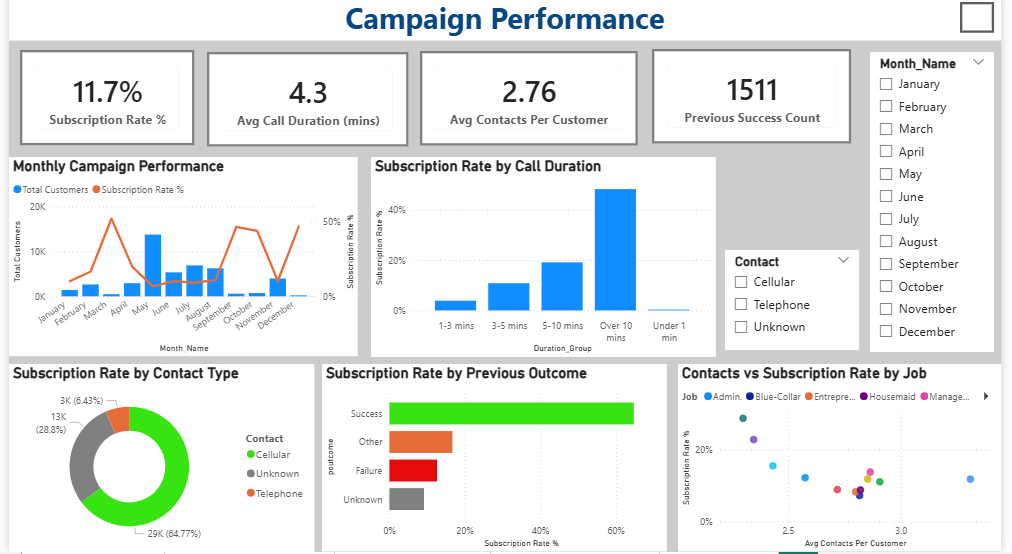

What the dashboard file says about the page in this screenshot:
{"tool":"powerbi","page":{"name":"Campaign Performance","canvas":[1280,720],"ordinal":3},"visuals":[{"type":"textbox","box":[0,0,1279.8,59.5],"z":0},{"type":"cardVisual","fields":{"Data":["_Measures.Subscription Rate %"]},"box":[14.2,72.3,225.4,123.3],"z":1000},{"type":"cardVisual","fields":{"Data":["_Measures.Avg Call Duration"]},"box":[256,74.3,260.1,122.5],"z":2000},{"type":"cardVisual","fields":{"Data":["_Measures.Avg Contacts Per Customer"]},"box":[529.9,72.9,280.8,122.5],"z":3000},{"type":"cardVisual","fields":{"Data":["_Measures.Previous Success Count"]},"box":[829.9,71.6,257.4,122.5],"z":4000},{"type":"lineClusteredColumnComboChart","title":"Monthly Campaign Performance","fields":{"Category":["Month_Table.Month_Name"],"Y":["_Measures.Total Customers"],"Y2":["_Measures.Subscription Rate %"]},"box":[0,210.3,450.3,256.8],"z":5000},{"type":"donutChart","title":"Subscription Rate by Contact Type","fields":{"Category":["Bank_Customers.Contact"],"Y":["_Measures.Total Customers"]},"box":[0,477.4,393.5,242.6],"z":6000},{"type":"clusteredColumnChart","title":"Subscription Rate by Call Duration","fields":{"Category":["Bank_Customers.Duration_Group"],"Y":["_Measures.Subscription Rate %"]},"box":[467.7,209.8,445,258],"z":7000},{"type":"clusteredBarChart","title":"Subscription Rate by Previous Outcome","fields":{"Category":["Bank_Customers.poutcome"],"Y":["_Measures.Subscription Rate %"]},"box":[403.9,477.6,445,242.4],"z":8000},{"type":"scatterChart","title":"Contacts vs Subscription Rate by Job","fields":{"Series":["Bank_Customers.Job"],"Y":["_Measures.Subscription Rate %"],"X":["_Measures.Avg Contacts Per Customer"]},"box":[863.1,477.6,416.7,242.4],"z":9000},{"type":"slicer","fields":{"Values":["Month_Table.Month_Name"]},"box":[1111,74.8,160,387.1],"z":10000},{"type":"slicer","fields":{"Values":["Bank_Customers.Contact"]},"box":[924.1,330.2,172.9,129],"z":11000},{"type":"actionButton","box":[1227.4,9.9,43.9,39.7],"z":11001}]}

Visuals, with their boxes in screenshot pixels (x1, y1, x2, y2), scaled from the page's 1280x720 canvas onto the 1012x554 screenshot:
textbox: bbox=(0, 0, 1011, 46)
cardVisual - _Measures.Subscription Rate %: bbox=(11, 56, 189, 151)
cardVisual - _Measures.Avg Call Duration: bbox=(202, 57, 408, 151)
cardVisual - _Measures.Avg Contacts Per Customer: bbox=(419, 56, 641, 150)
cardVisual - _Measures.Previous Success Count: bbox=(656, 55, 860, 149)
"Monthly Campaign Performance" lineClusteredColumnComboChart: bbox=(0, 162, 356, 359)
"Subscription Rate by Contact Type" donutChart: bbox=(0, 367, 311, 553)
"Subscription Rate by Call Duration" clusteredColumnChart: bbox=(370, 161, 722, 360)
"Subscription Rate by Previous Outcome" clusteredBarChart: bbox=(319, 367, 671, 553)
"Contacts vs Subscription Rate by Job" scatterChart: bbox=(682, 367, 1011, 553)
slicer - Month_Table.Month_Name: bbox=(878, 58, 1005, 355)
slicer - Bank_Customers.Contact: bbox=(731, 254, 867, 353)
actionButton: bbox=(970, 8, 1005, 38)
